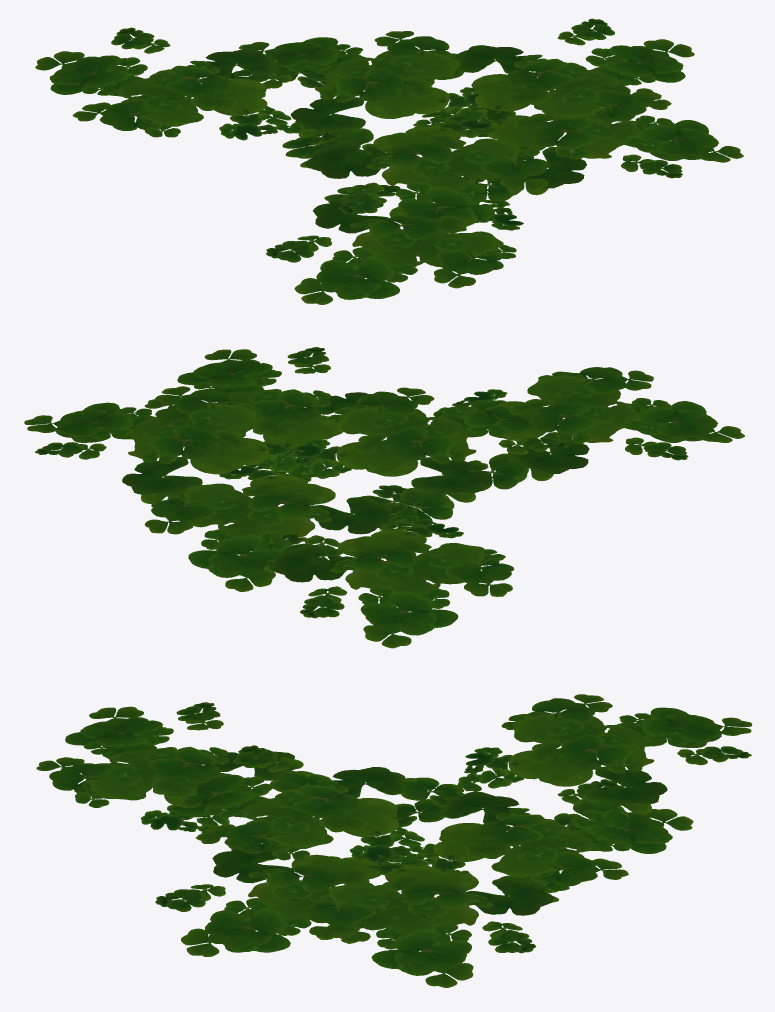
3 views of the same model, one above another, from view 1: azimuth 30°, elevation 25°; view 2: azimuth 150°, elevation 25°; view 3: azimuth 270°, elevation 25° (orthographic). The views are drawn at different scales.
Parts seen in each view (by area): view 1: SM_BM_Sorrel_E_LOD0; view 2: SM_BM_Sorrel_E_LOD0; view 3: SM_BM_Sorrel_E_LOD0.
Boxes of the visible parts, <box> form: SM_BM_Sorrel_E_LOD0: <box>35,18,743,304</box>; SM_BM_Sorrel_E_LOD0: <box>24,347,744,648</box>; SM_BM_Sorrel_E_LOD0: <box>36,694,752,987</box>.
Bounding box in the file's own units: 0.7674 × 0.0438 × 0.8227.
Materials: 1 (1 with a texture image).
